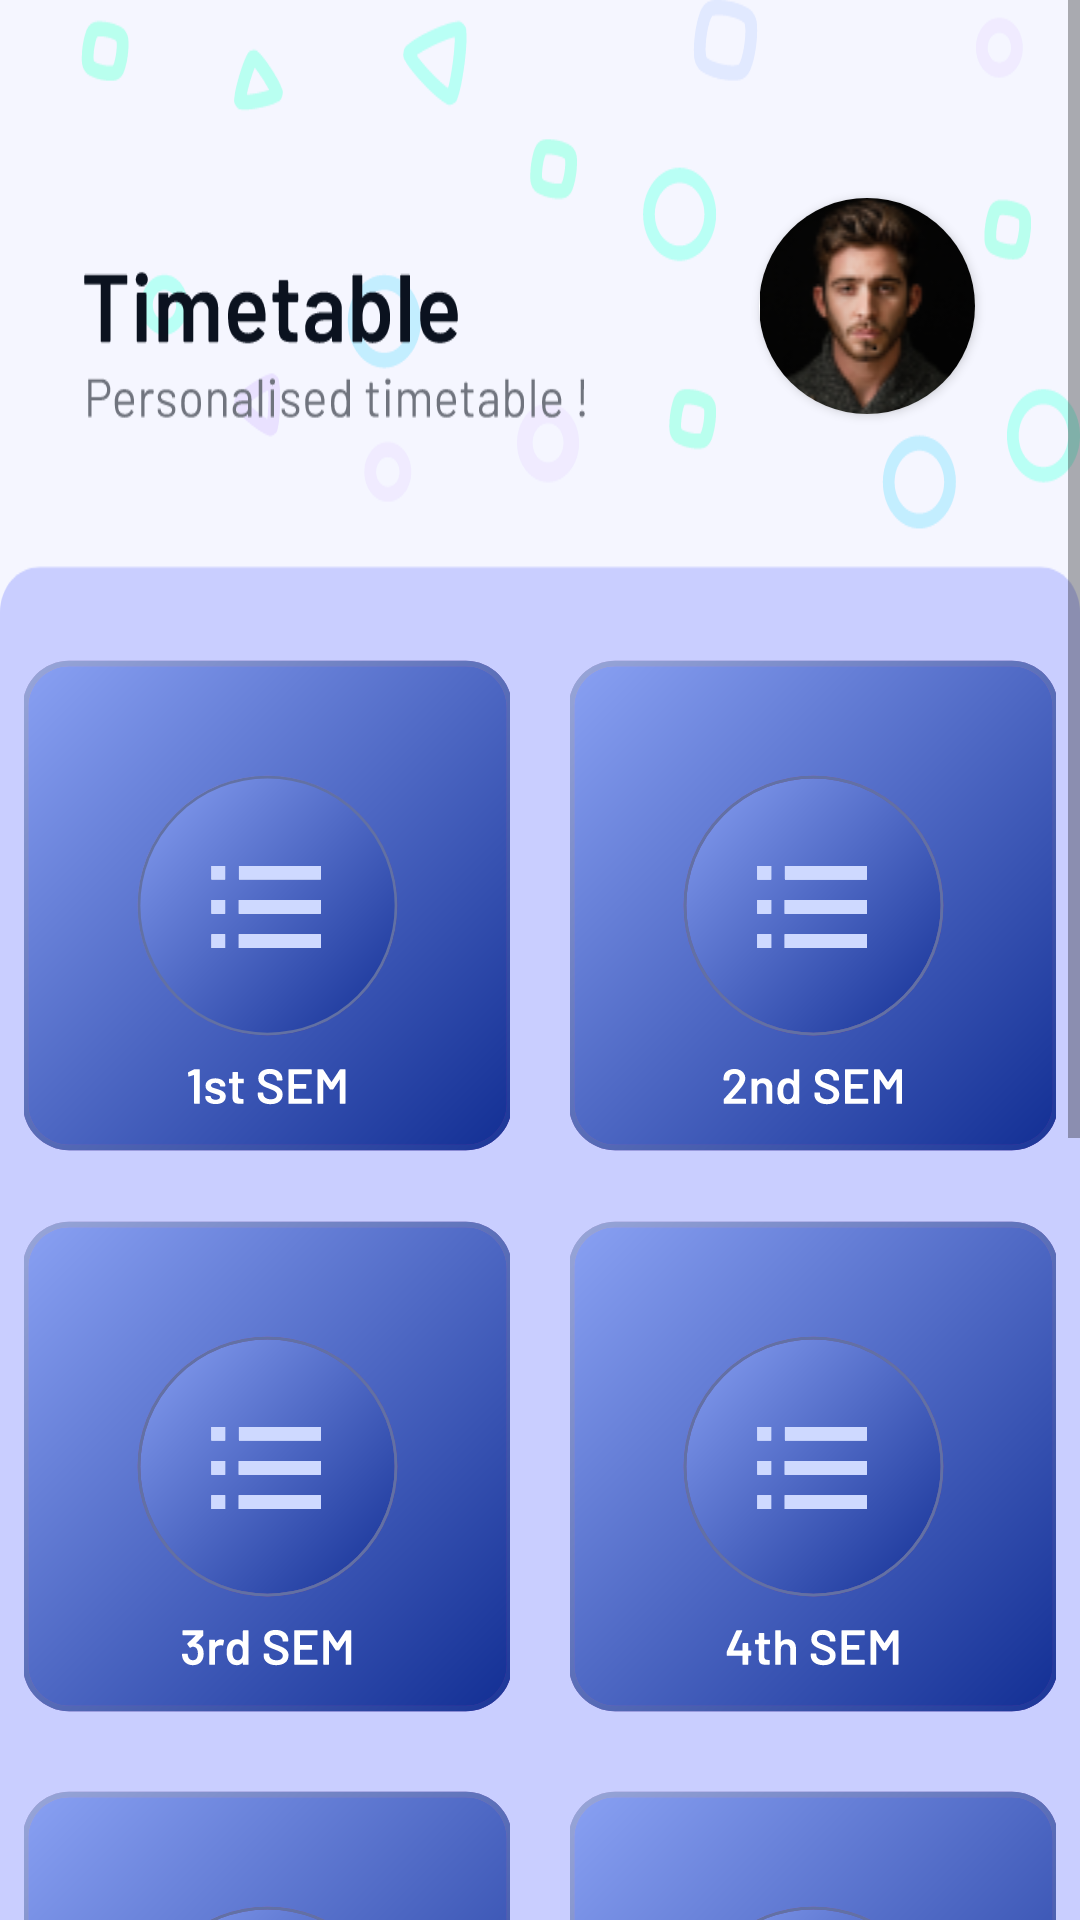

Locate icon controls on the screen. Image size 1080 × 1920, boxes as {"left": x1, "top": y1, "right": x2, "bottom": y2}.
men profile: {"left": 760, "top": 198, "right": 975, "bottom": 414}
